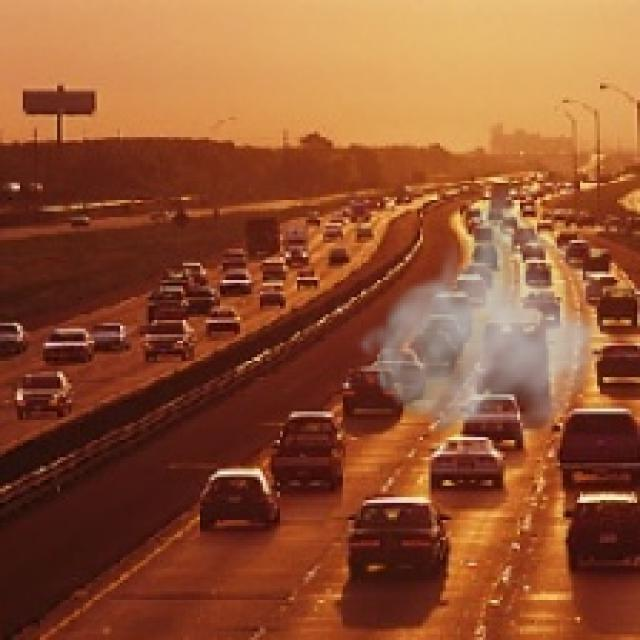smoke: (354, 180, 612, 457)
